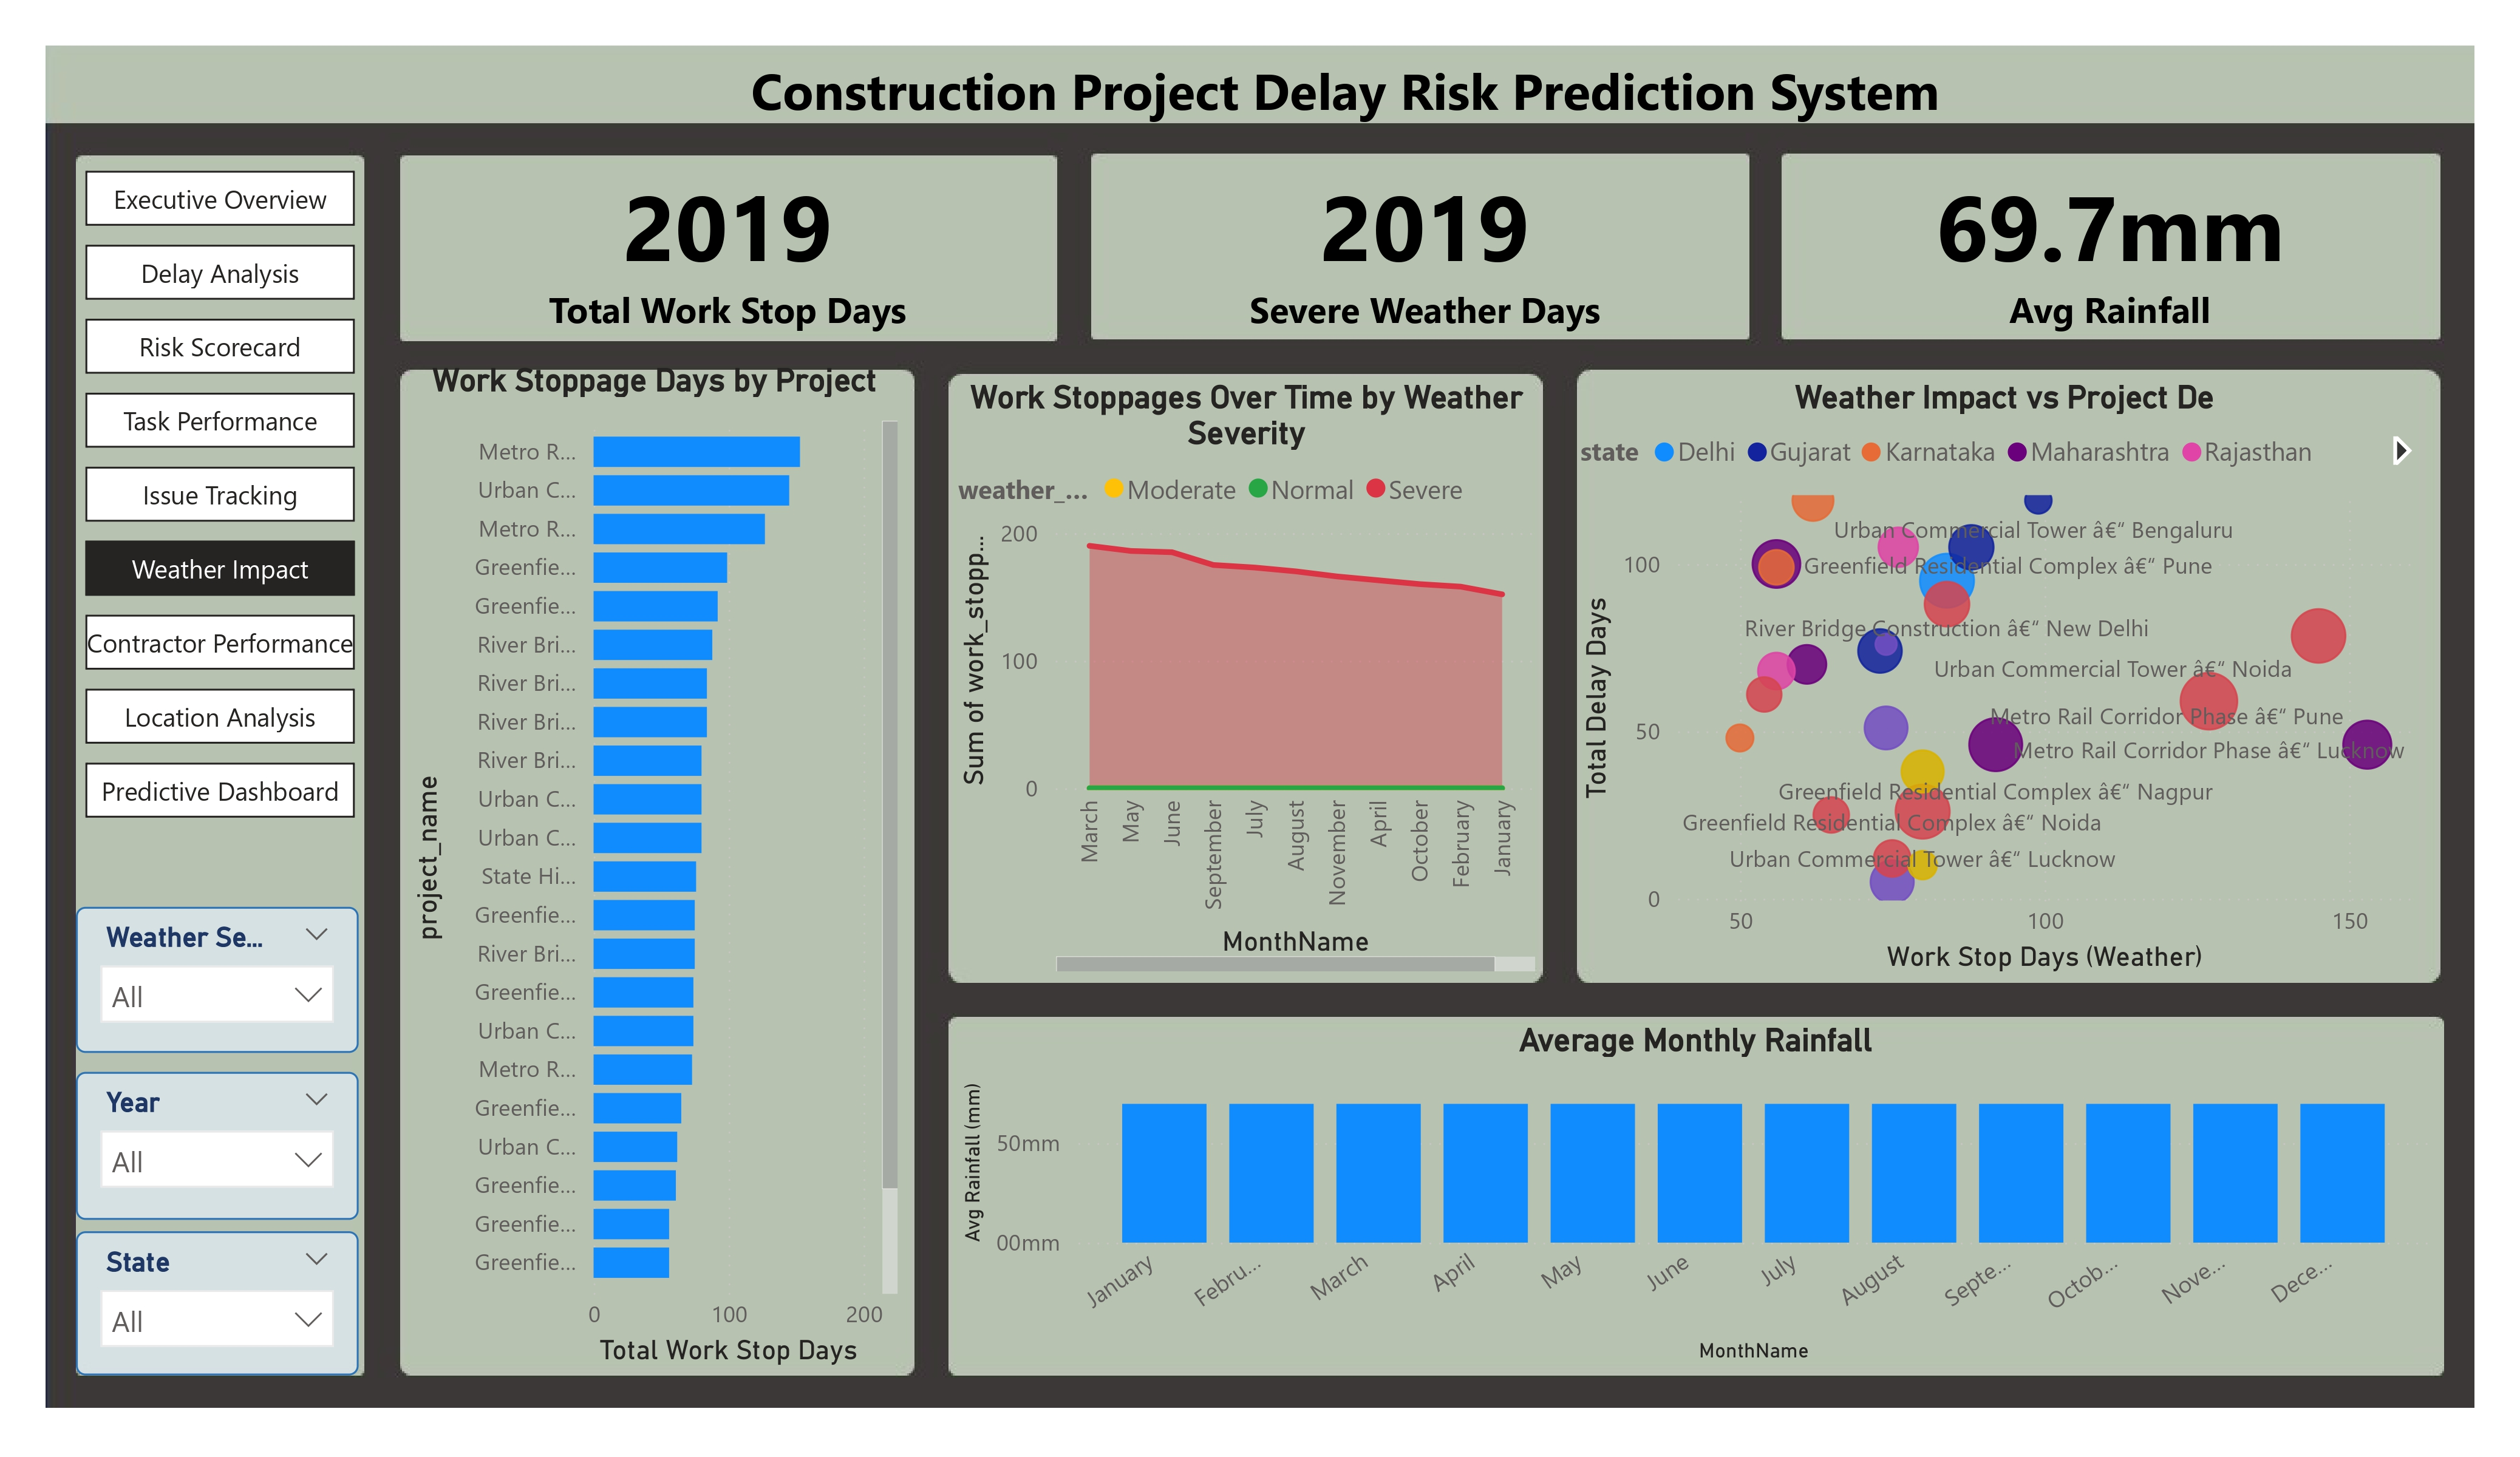

Layout of this report page (visuals, bound fields, positions):
{"tool":"powerbi","page":{"name":"Weather Impact","canvas":[1280,720],"ordinal":5},"visuals":[{"type":"card","fields":{"Values":["**Measures**.Total Work Stop Days"]},"box":[187.5,56.2,343.8,100],"z":0},{"type":"card","fields":{"Values":["**Measures**.Severe Weather Days"]},"box":[551.2,56.2,351.2,100],"z":1000},{"type":"card","fields":{"Values":["**Measures**.Avg Rainfall"]},"box":[915,56.2,346.2,100],"z":2000},{"type":"areaChart","title":"Work Stoppages Over Time by Weather Severity","fields":{"Category":["DimDate.MonthName"],"Y":["Sum(factweatherimpact.work_stopped)"],"Series":["factweatherimpact.weather_severity"]},"box":[476.2,175,313.8,317.5],"z":3000},{"type":"scatterChart","title":"Weather Impact vs Project De","fields":{"X":["**Measures**.Total Work Stop Days"],"Y":["**Measures**.Avg Delay Days"],"Category":["factprojectmetrics.project_name"],"Series":["factprojectmetrics.state"],"Size":["**Measures**.Total Project Value"]},"box":[803.8,175,457.5,317.5],"z":4000},{"type":"clusteredBarChart","title":"Work Stoppage Days by Project","fields":{"Category":["factprojectmetrics.project_name"],"Y":["**Measures**.Total Work Stop Days"]},"box":[187.5,166.2,266.2,535],"z":5000},{"type":"clusteredColumnChart","title":"Average Monthly Rainfall","fields":{"Category":["DimDate.MonthName"],"Y":["**Measures**.Avg Rainfall"]},"box":[477.5,513.8,783.8,185],"z":6000},{"type":"slicer","fields":{"Values":["factweatherimpact.weather_severity"]},"box":[16.2,453.8,148.8,77.5],"z":7000},{"type":"slicer","fields":{"Values":["DimDate.Year"]},"box":[16.2,541.2,148.8,77.5],"z":8000},{"type":"slicer","fields":{"Values":["factprojectmetrics.state"]},"box":[16.2,625,148.8,76.2],"z":9000},{"type":"pageNavigator","box":[21.2,66.2,141.2,343.8],"z":10000},{"type":"textbox","box":[366.7,0,656,56],"z":10001}]}

Visuals, with their boxes on the page's 1280x720 design canvas (x1, y1, x2, y2). These are canvas units, not pixel positions in the 2520x1457 screenshot, which may show the page scaled, cropped or inside an application window:
card - **Measures**.Total Work Stop Days: x1=188 y1=56 x2=531 y2=156
card - **Measures**.Severe Weather Days: x1=551 y1=56 x2=902 y2=156
card - **Measures**.Avg Rainfall: x1=915 y1=56 x2=1261 y2=156
"Work Stoppages Over Time by Weather Severity" areaChart: x1=476 y1=175 x2=790 y2=492
"Weather Impact vs Project De" scatterChart: x1=804 y1=175 x2=1261 y2=492
"Work Stoppage Days by Project" clusteredBarChart: x1=188 y1=166 x2=454 y2=701
"Average Monthly Rainfall" clusteredColumnChart: x1=478 y1=514 x2=1261 y2=699
slicer - factweatherimpact.weather_severity: x1=16 y1=454 x2=165 y2=531
slicer - DimDate.Year: x1=16 y1=541 x2=165 y2=619
slicer - factprojectmetrics.state: x1=16 y1=625 x2=165 y2=701
pageNavigator: x1=21 y1=66 x2=162 y2=410
textbox: x1=367 y1=0 x2=1023 y2=56
